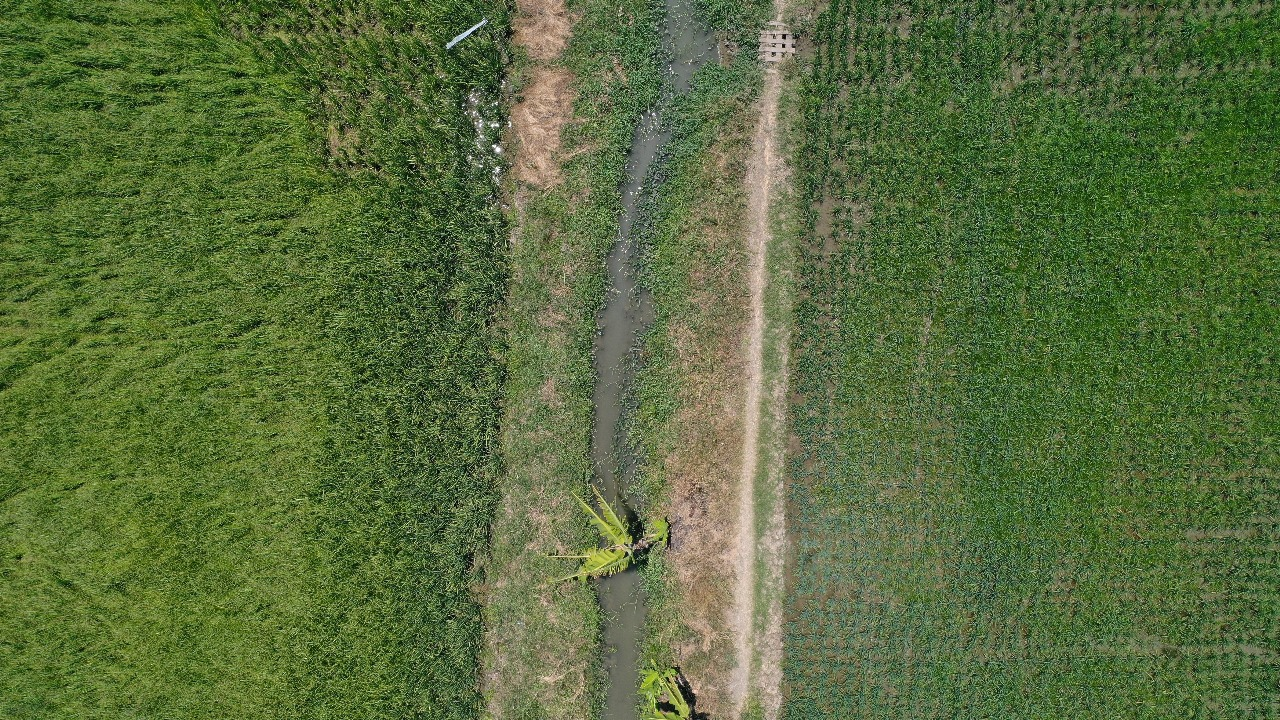irigation: (578, 1, 726, 515), (580, 562, 653, 719)
